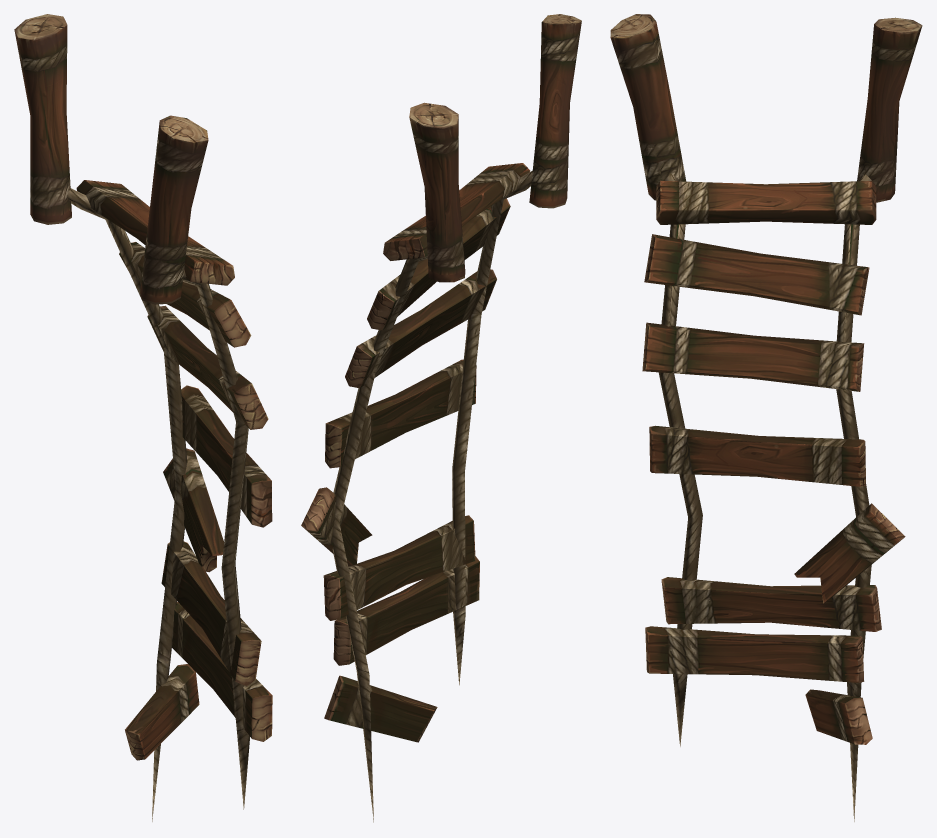
Rendered from rope_bridge_ruin_r_small_01.fbx.
3 renders of one model, left to right at view 1: azimuth 30°, elevation 25°; view 2: azimuth 150°, elevation 25°; view 3: azimuth 270°, elevation 25°, orthographic. The views are drawn at different scales.
Parts seen in each view (by area): view 1: rope_bridge_ruin_r_small_01; view 2: rope_bridge_ruin_r_small_01; view 3: rope_bridge_ruin_r_small_01.
Boxes of the visible parts, x1,y1,x2,y2 form: rope_bridge_ruin_r_small_01: (14, 14, 272, 821); rope_bridge_ruin_r_small_01: (301, 14, 581, 822); rope_bridge_ruin_r_small_01: (610, 14, 922, 821).
Size of the model in its own units: 109 by 503 by 186.
